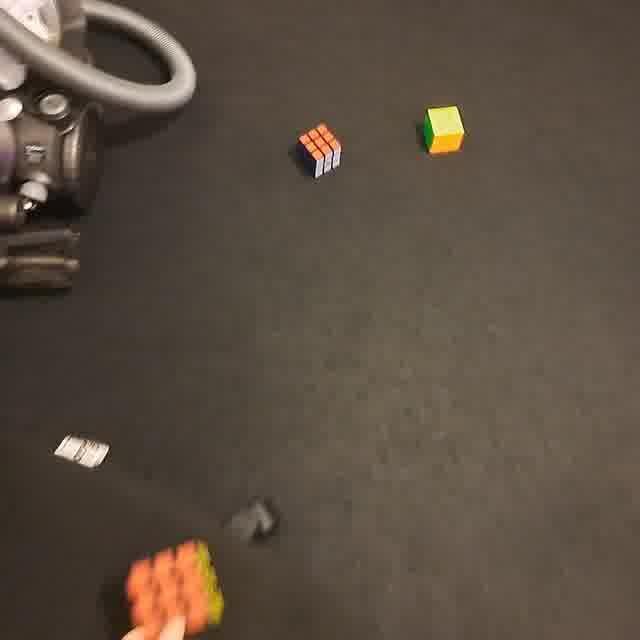rubix_cube: (123, 535, 228, 637), (295, 121, 343, 179), (421, 101, 467, 157)
